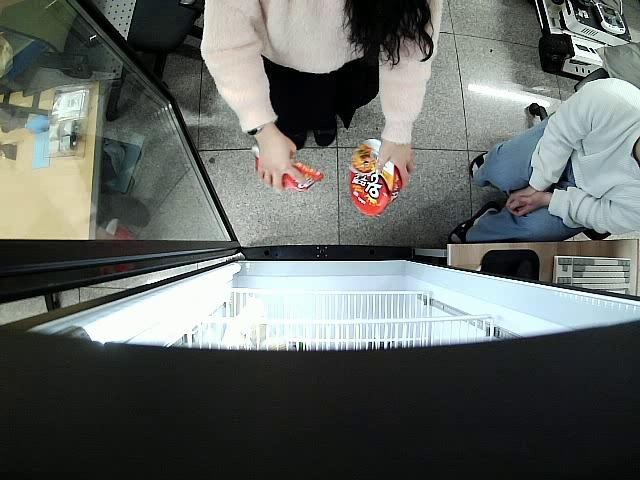00_hand: (258, 129, 298, 194), (379, 140, 418, 187)
10_wangTtukkeong: (348, 139, 401, 217), (253, 144, 323, 194)
